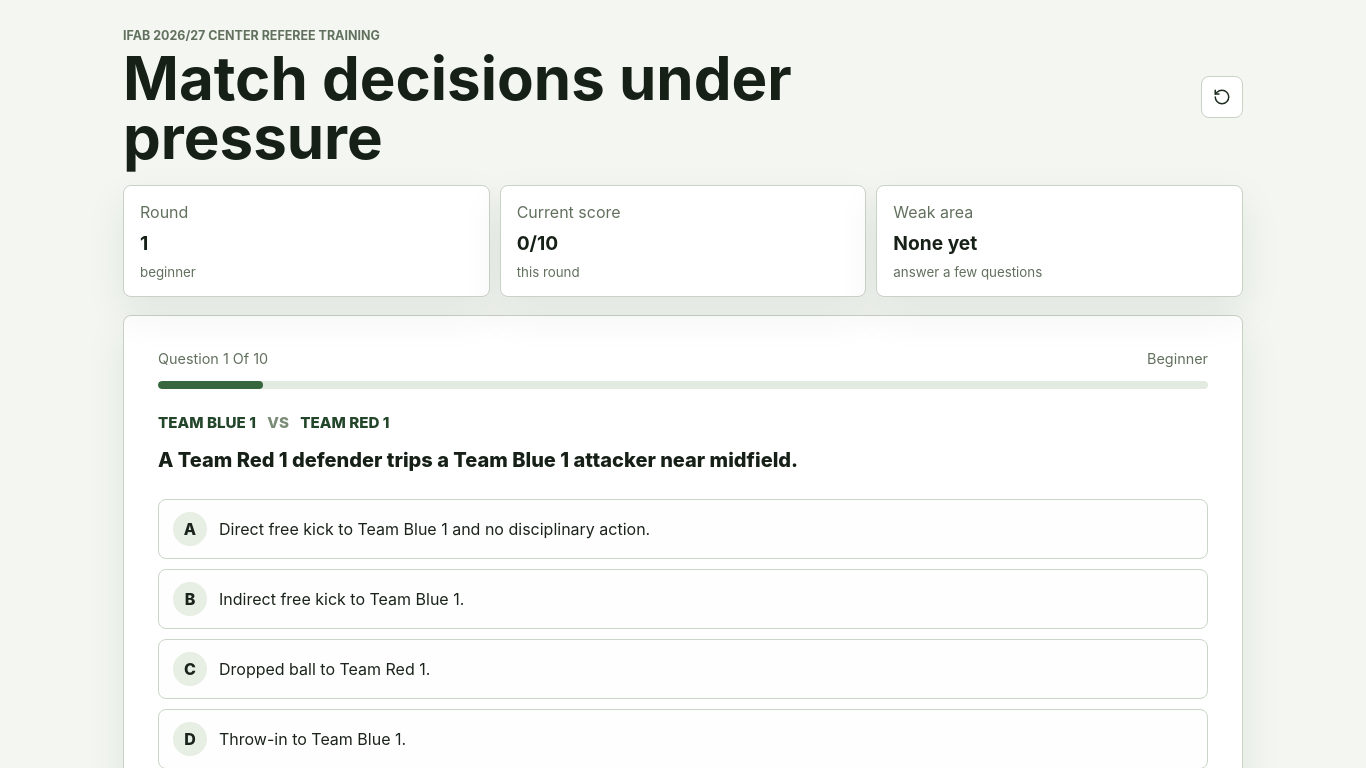
App › loads a round, answers a question, and shows feedback
Check: the heading "A Team Red 1 defender trips" is shown, box left=158, top=448, right=798, bottom=472
Click the button with aria-label "A. Direct free kick to Team Blue 1" at [190, 529], box left=158, top=499, right=1208, bottom=559
(page scrolled)
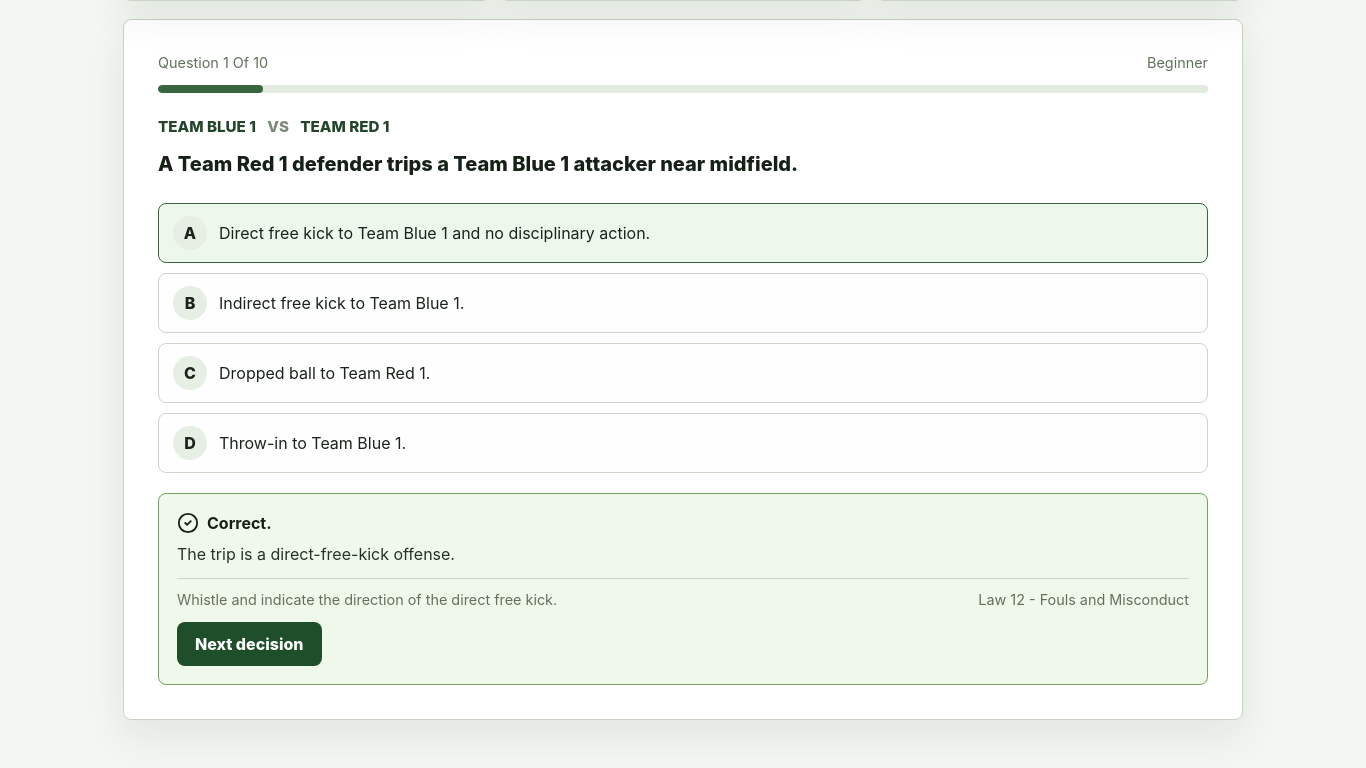
Check: the text "Correct." is shown, box left=207, top=513, right=272, bottom=533
Check: the text "The trip is a direct-free-kick offense." is shown, box left=177, top=544, right=455, bottom=564
